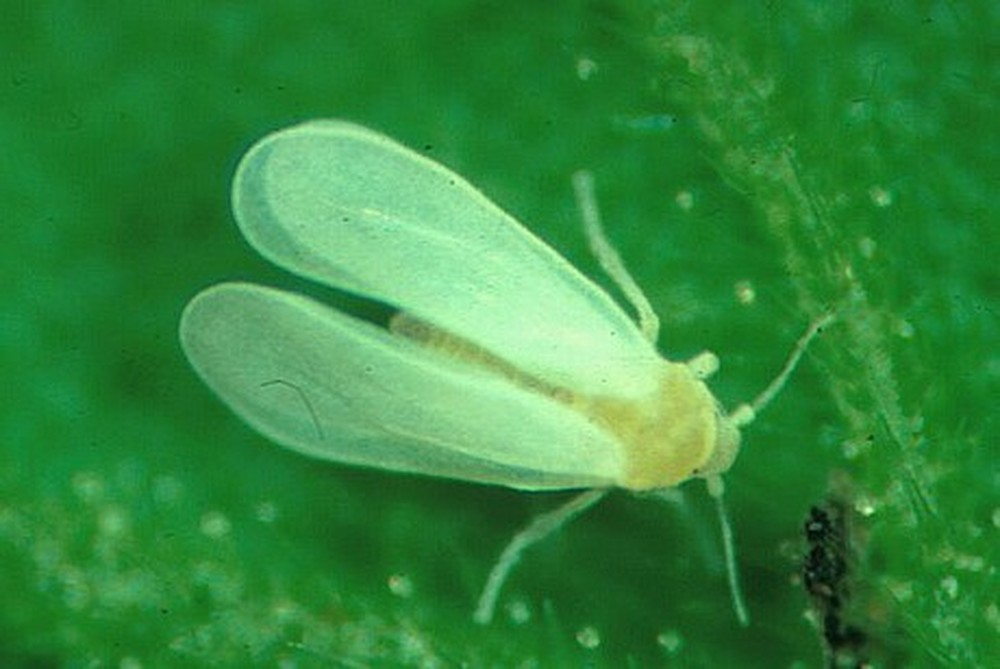Mosca Blanca: (175, 105, 851, 629)
